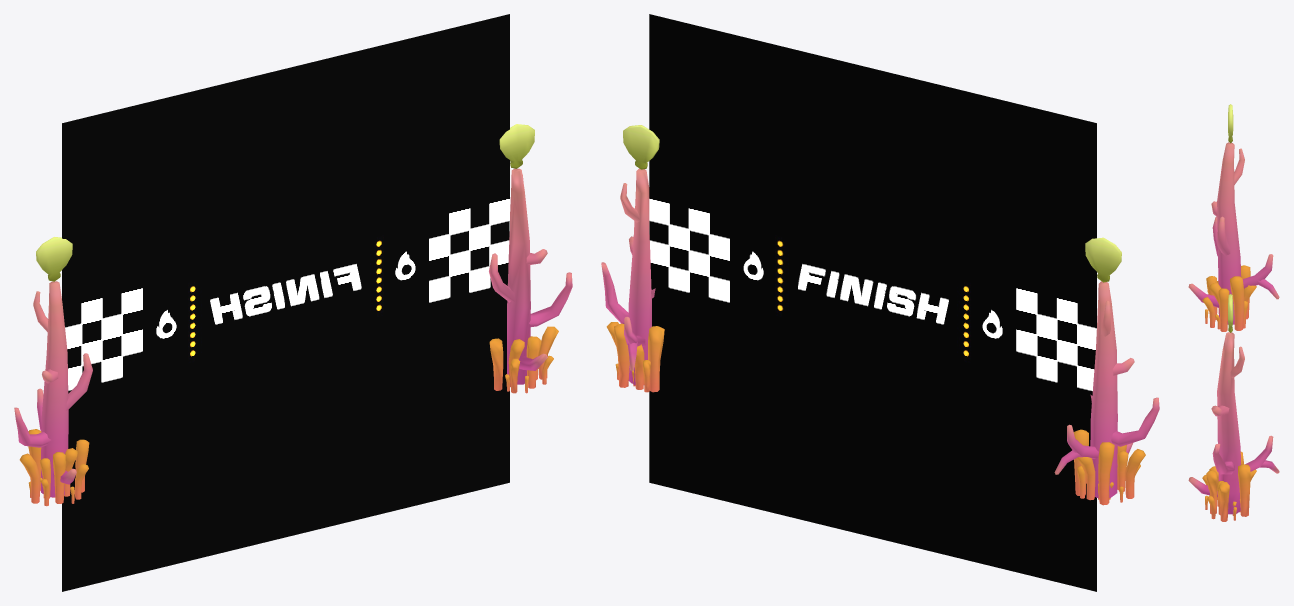
File: track7FinishFlag.glb
3 renders of one model, left to right at view 1: azimuth 30°, elevation 25°; view 2: azimuth 150°, elevation 25°; view 3: azimuth 270°, elevation 25°, orthographic. The views are drawn at different scales.
Visible parts, largest first — view 1: track7FinishFlag; view 2: track7FinishFlag; view 3: track7FinishFlag.
Part boxes in pixels (bbox=[...]): track7FinishFlag: bbox=[14, 14, 572, 591]; track7FinishFlag: bbox=[601, 14, 1159, 591]; track7FinishFlag: bbox=[1188, 104, 1279, 521].
Bounding box in the file's own units: 4.98 × 4 × 0.8383.
2 materials, 2 textured.
